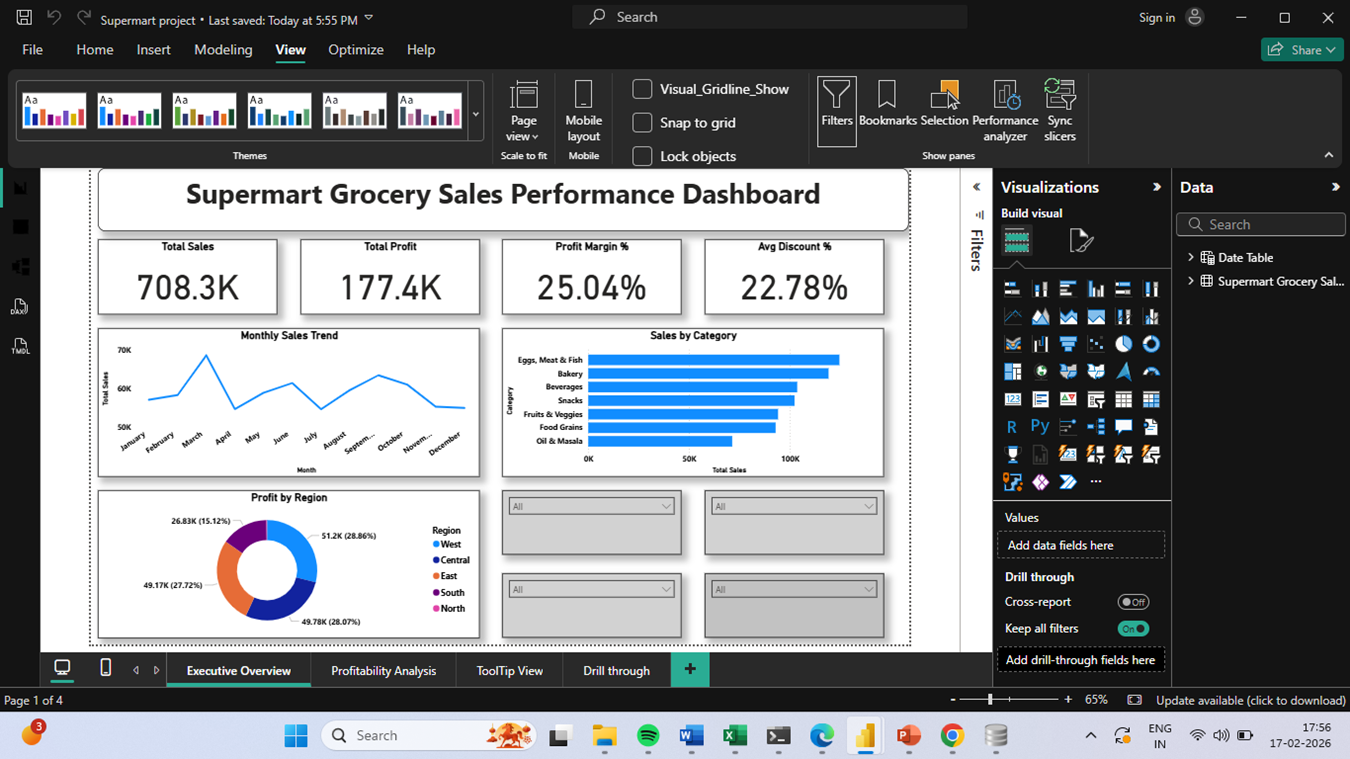

This screenshot's page, from the dashboard's own definition file:
{"tool":"powerbi","page":{"name":"Executive Overview","canvas":[1280,746],"ordinal":0},"visuals":[{"type":"card","title":"Total Sales","fields":{"Values":["Supermart Grocery Sales - Retail Analytics Dataset (1).Total Sales"]},"box":[10.1,110.9,280.5,117.6],"z":0},{"type":"card","title":"Avg Discount %","fields":{"Values":["Date Table.Avg Discount %"]},"box":[960.8,110.9,280.5,117.6],"z":1000},{"type":"card","title":"Total Profit","fields":{"Values":["Supermart Grocery Sales - Retail Analytics Dataset (1).Total Profit"]},"box":[327.6,110.9,280.5,117.6],"z":2000},{"type":"card","title":"Profit Margin %","fields":{"Values":["Date Table.Profit Margin %"]},"box":[643.4,110.9,280.5,117.6],"z":3000},{"type":"lineChart","title":"Monthly Sales Trend","fields":{"Y":["Supermart Grocery Sales - Retail Analytics Dataset (1).Total Sales"],"Category":["Supermart Grocery Sales - Retail Analytics Dataset (1).Order Date.Variation.Date Hierarchy.Month"]},"box":[10.1,250.3,598,233.5],"z":4000},{"type":"clusteredBarChart","title":"Sales by Category","fields":{"Category":["Supermart Grocery Sales - Retail Analytics Dataset (1).Category"],"Y":["Supermart Grocery Sales - Retail Analytics Dataset (1).Total Sales"]},"box":[643.4,250.3,598,233.5],"z":5000},{"type":"donutChart","title":"Profit by Region","fields":{"Category":["Supermart Grocery Sales - Retail Analytics Dataset (1).Region"],"Y":["Supermart Grocery Sales - Retail Analytics Dataset (1).Total Profit"]},"box":[10.1,503.9,598,231.8],"z":6000},{"type":"slicer","fields":{"Values":["Supermart Grocery Sales - Retail Analytics Dataset (1).Region"]},"box":[643.4,503.9,280.5,100.8],"z":7000},{"type":"slicer","fields":{"Values":["Supermart Grocery Sales - Retail Analytics Dataset (1).Category"]},"box":[960.8,503.9,280.5,100.8],"z":8000},{"type":"slicer","fields":{"Values":["Date Table.Year"]},"box":[643.4,635,280.5,100.8],"z":9000},{"type":"slicer","fields":{"Values":["Supermart Grocery Sales - Retail Analytics Dataset (1).City"]},"box":[960.8,635,280.5,100.8],"z":10000},{"type":"textbox","box":[10.1,0,1269.9,99.1],"z":11000}]}

Visuals, with their boxes on the page's 1280x746 design canvas (x1, y1, x2, y2). These are canvas units, not pixel positions in the 1350x759 screenshot, which may show the page scaled, cropped or inside an application window:
"Total Sales" card: box=[10, 111, 291, 228]
"Avg Discount %" card: box=[961, 111, 1241, 228]
"Total Profit" card: box=[328, 111, 608, 228]
"Profit Margin %" card: box=[643, 111, 924, 228]
"Monthly Sales Trend" lineChart: box=[10, 250, 608, 484]
"Sales by Category" clusteredBarChart: box=[643, 250, 1241, 484]
"Profit by Region" donutChart: box=[10, 504, 608, 736]
slicer - Supermart Grocery Sales - Retail Analytics Dataset (1).Region: box=[643, 504, 924, 605]
slicer - Supermart Grocery Sales - Retail Analytics Dataset (1).Category: box=[961, 504, 1241, 605]
slicer - Date Table.Year: box=[643, 635, 924, 736]
slicer - Supermart Grocery Sales - Retail Analytics Dataset (1).City: box=[961, 635, 1241, 736]
textbox: box=[10, 0, 1280, 99]
